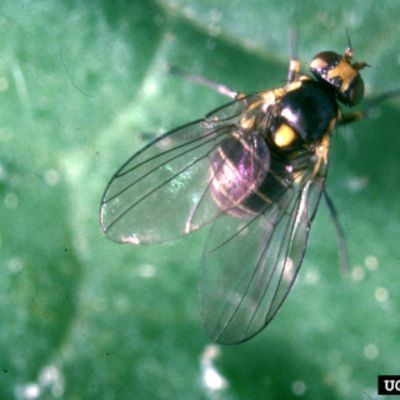Trifoli: (98, 16, 361, 356)
